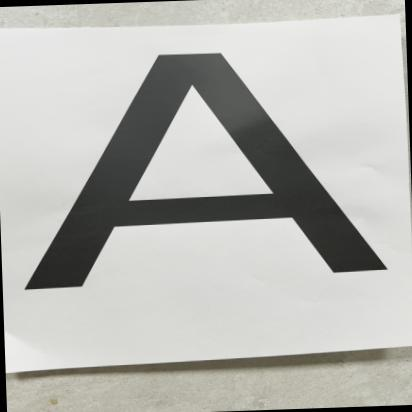seat: (3, 47, 412, 300)
